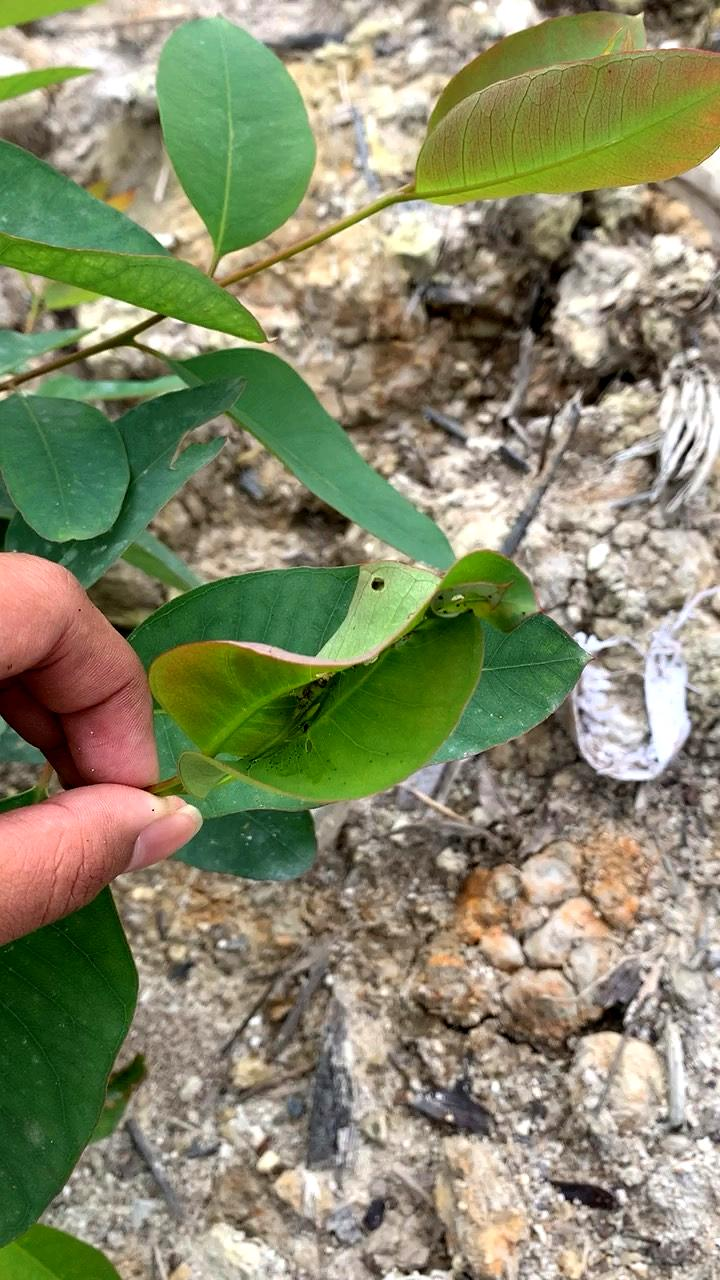Leaf Roller - Leaf: (173, 525, 558, 826)
